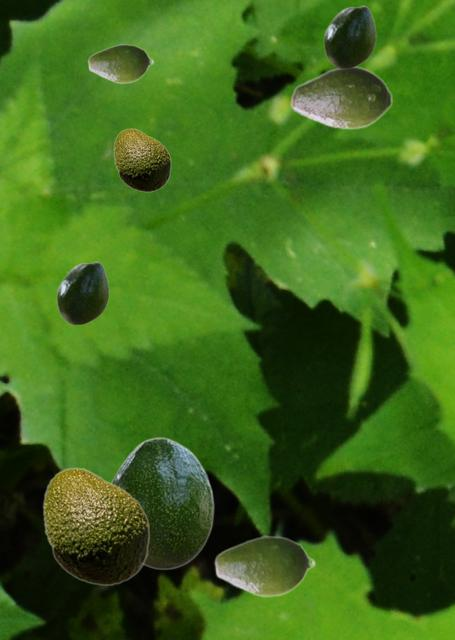avocado: (111, 437, 213, 569), (42, 467, 149, 585), (290, 66, 392, 129), (213, 534, 315, 597), (113, 128, 170, 191), (323, 5, 375, 68), (56, 261, 108, 324), (87, 43, 153, 83)
